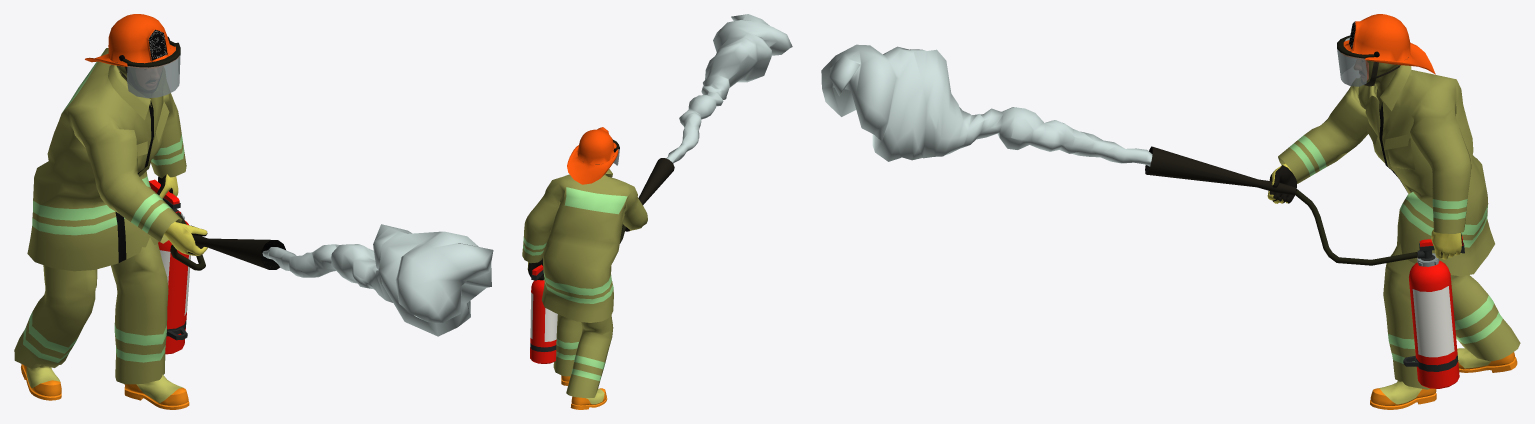
File: firemen5.dae
3 renders of one model, left to right at view 1: azimuth 30°, elevation 25°; view 2: azimuth 150°, elevation 25°; view 3: azimuth 270°, elevation 25°, orthographic. The views are drawn at different scales.
Visible parts, largest first — view 1: group_2 (×18), group_3 (×4), group_1; view 2: group_2 (×11), group_3 (×5); view 3: group_2 (×8), group_3 (×5), group_1.
Boxes of the visible parts, <box> form: group_2 (×18): <box>14,14,493,402</box>; group_3 (×4): <box>21,220,285,409</box>; group_1: <box>127,55,180,98</box>; group_2 (×11): <box>523,14,792,398</box>; group_3 (×5): <box>530,158,674,409</box>; group_2 (×8): <box>821,14,1520,361</box>; group_3 (×5): <box>1145,146,1459,409</box>; group_1: <box>1337,37,1367,86</box>.
Bounding box in the file's own units: 13.69 × 61.38 × 36.14.
